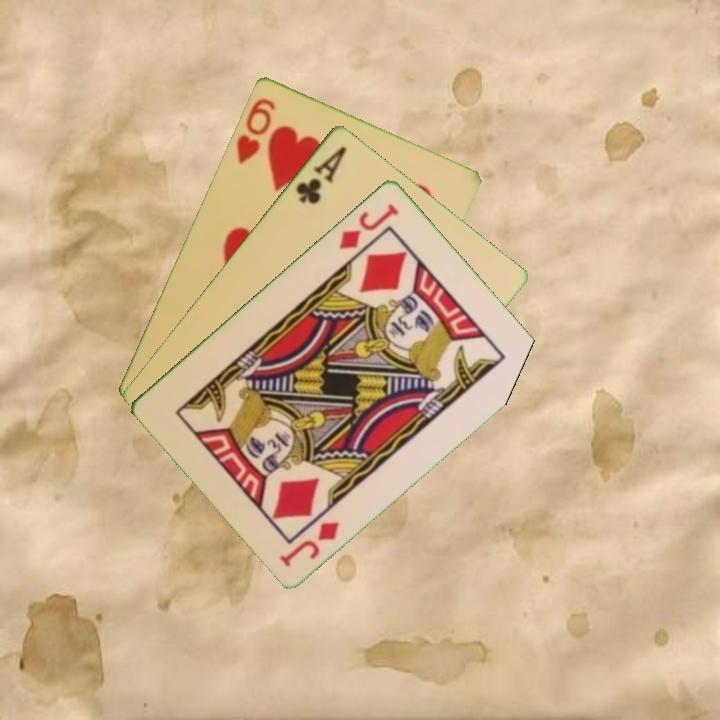6h: (232, 94, 279, 167)
Ac: (292, 142, 350, 207)
Jd: (335, 199, 402, 252), (275, 517, 342, 570)
